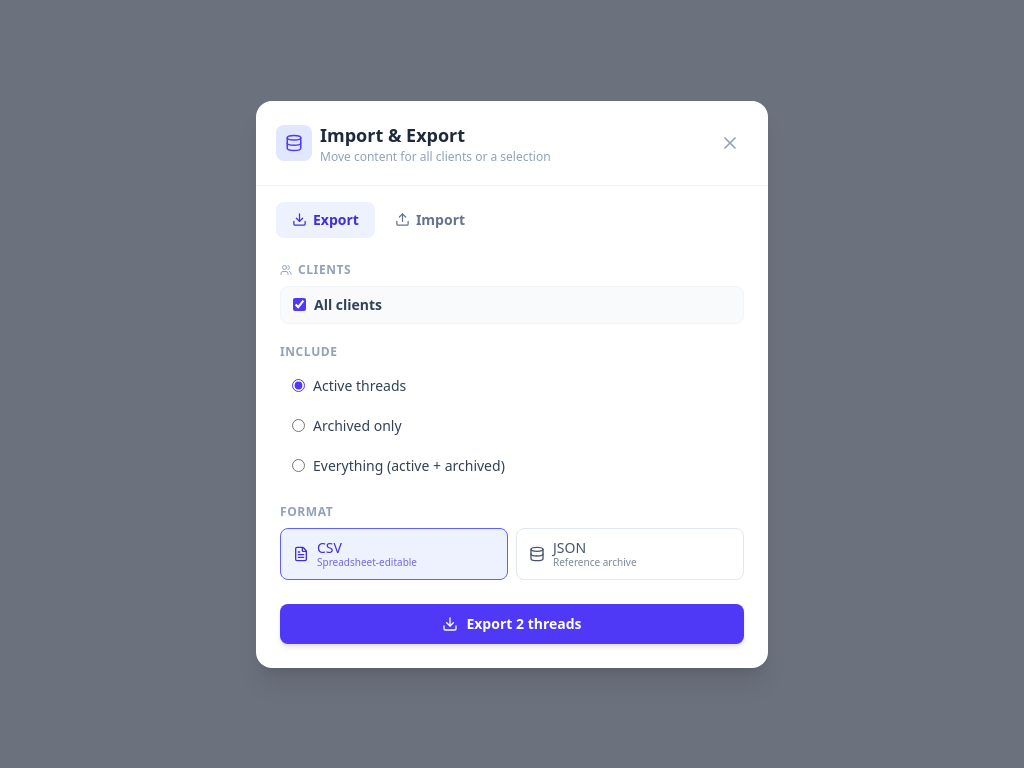
ImportExportModal — export scope › operator: narrows the export to a single selected client
Click the checkbox labelled "All clients": (300, 304) [293,298,306,311]
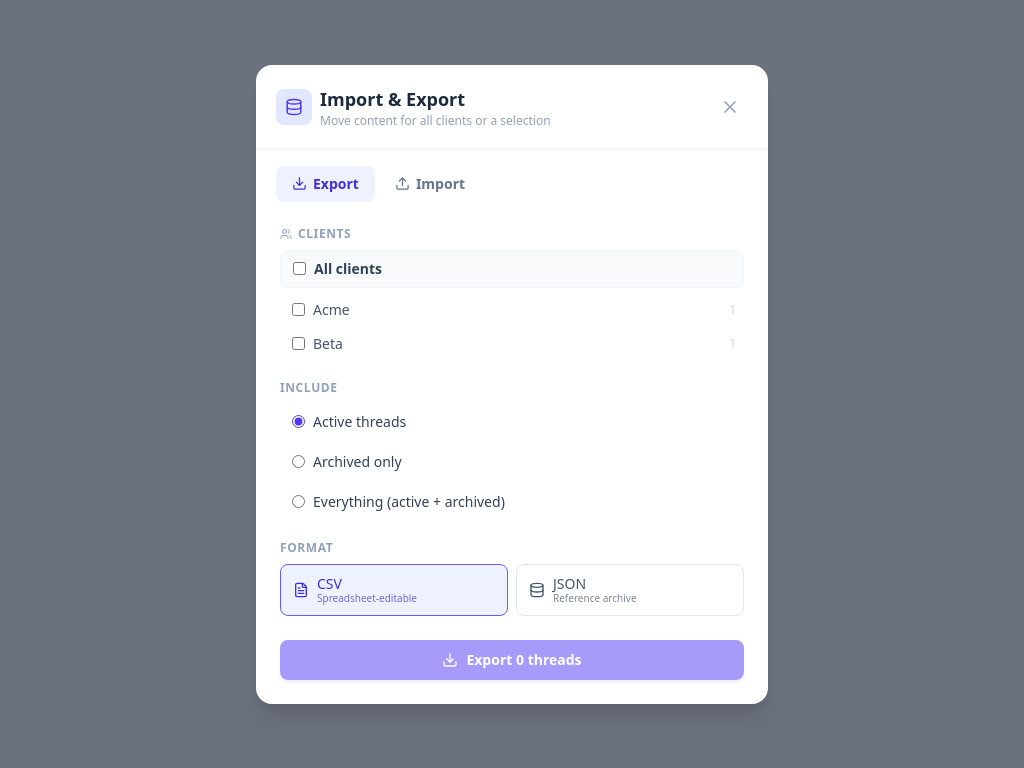
Result: the button "Export 0 threads" is shown at [280,640,744,680]
Click the text "Beta": (328, 344) [313,334,343,354]
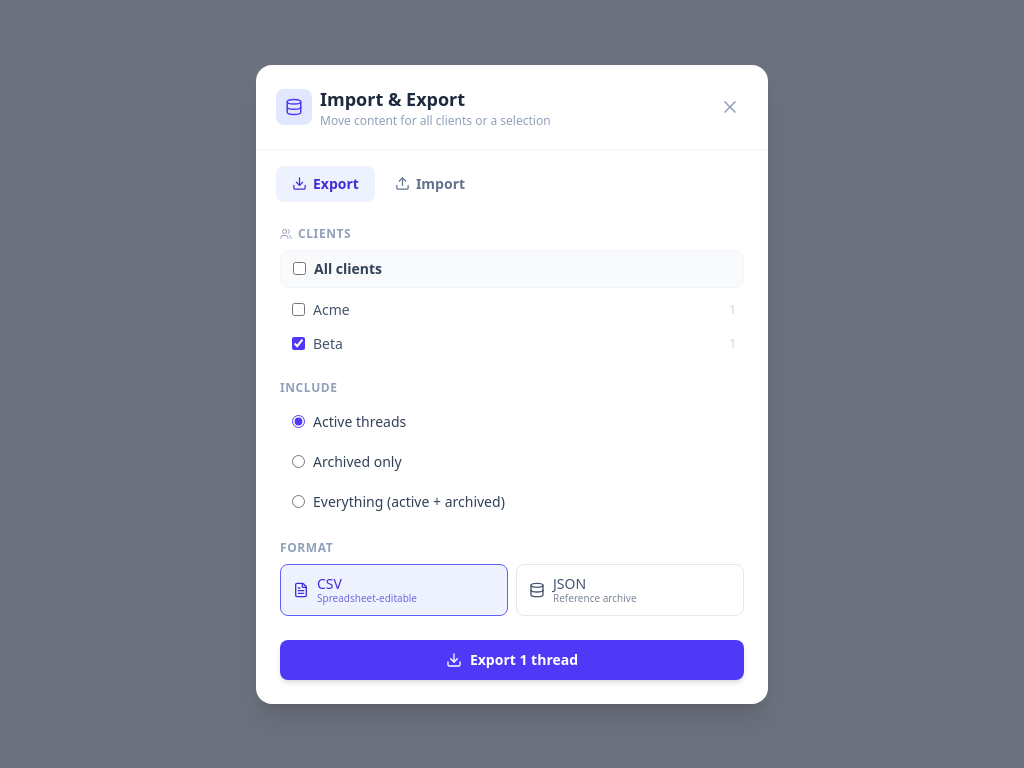
Result: the button "Export 1 thread" is shown at [280,640,744,680]
